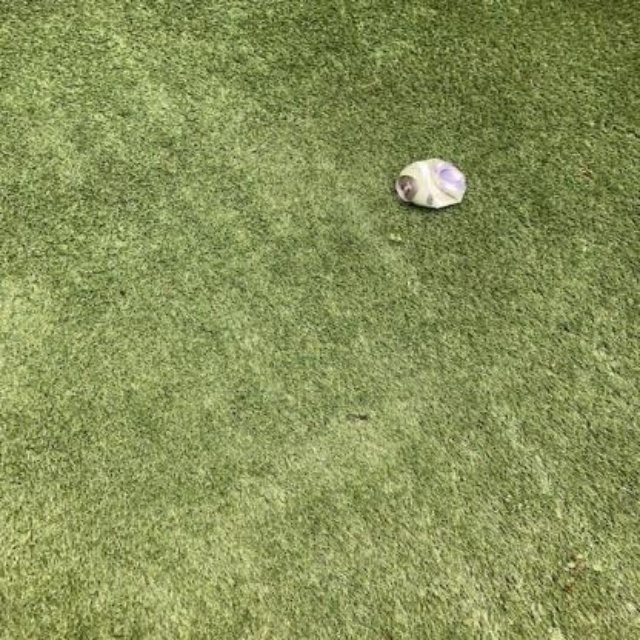trash: (395, 158, 465, 206)
